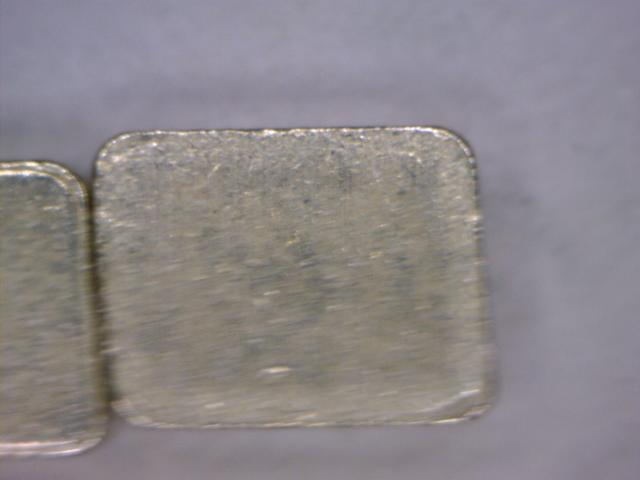ok: (88, 120, 506, 436)
